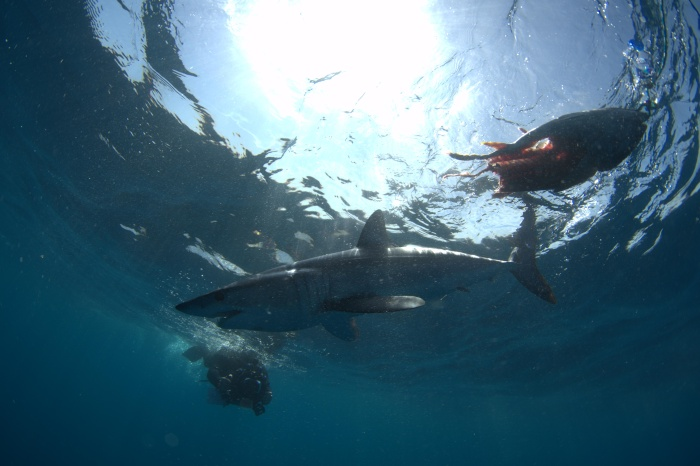Mako: (160, 196, 573, 360)
